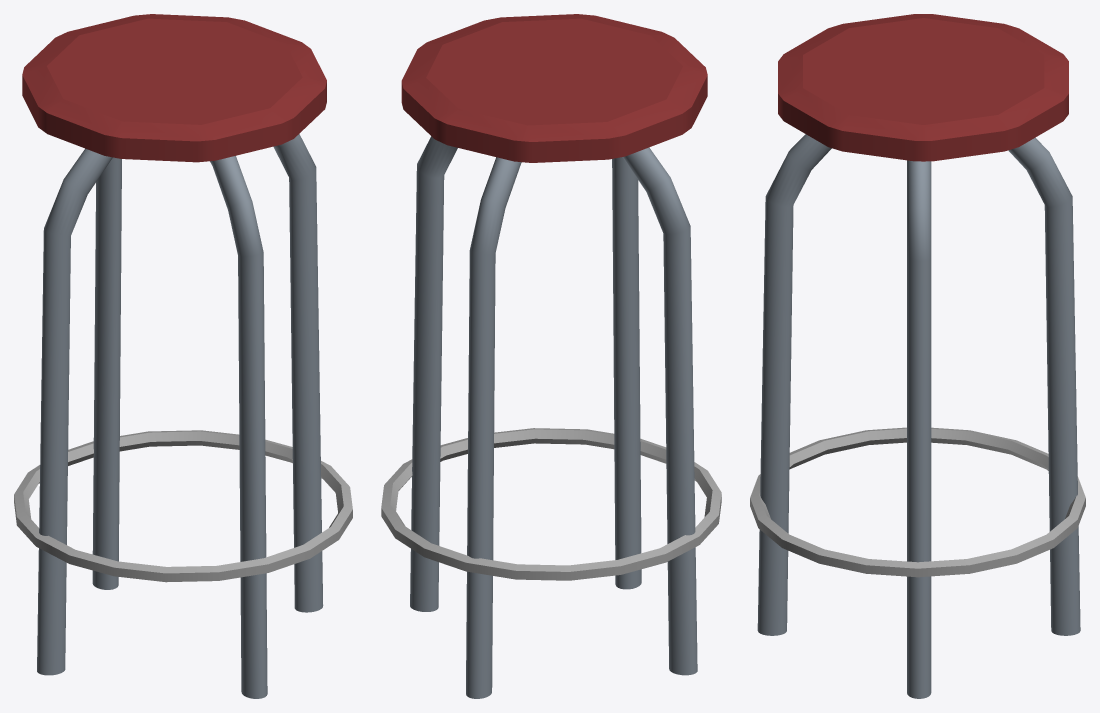
File: tabouret.fbx
3 renders of one model, left to right at view 1: azimuth 30°, elevation 25°; view 2: azimuth 150°, elevation 25°; view 3: azimuth 270°, elevation 25°, orthographic.
Parts seen in each view (by area): view 1: tabouret14; view 2: tabouret14; view 3: tabouret14.
Part boxes in pixels (x1,y1,x2,y2): tabouret14: (14,14,352,698); tabouret14: (381,14,721,698); tabouret14: (750,14,1085,698).
Bounding box in the file's own units: 73.69 × 135 × 73.69.
